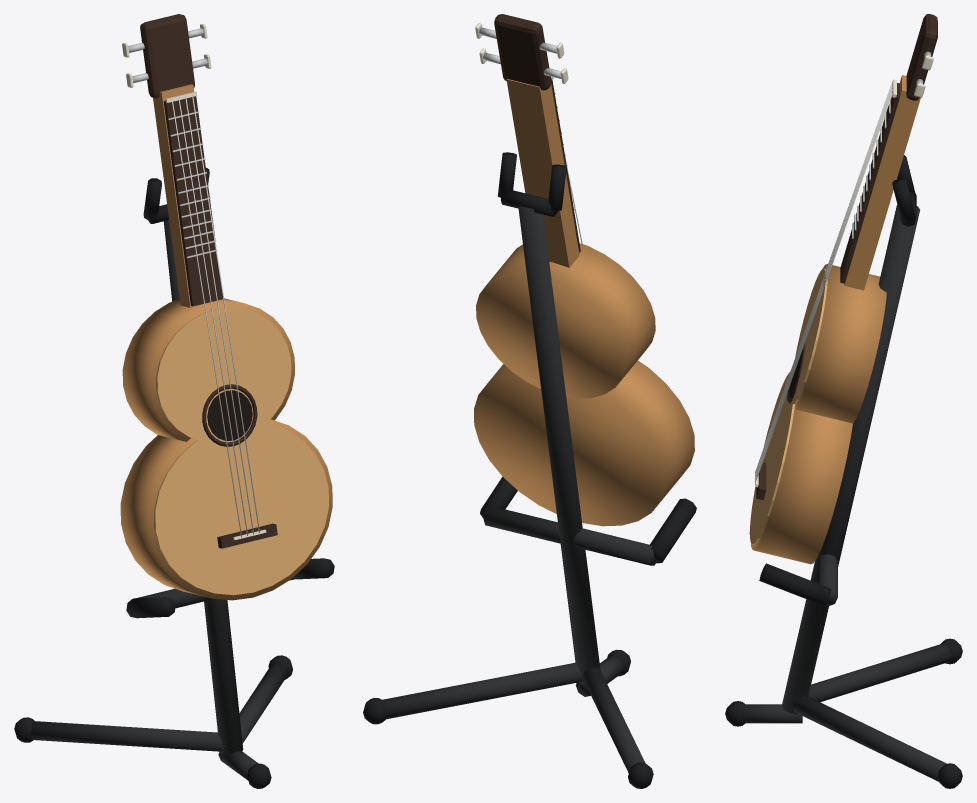
Rendered from ukulele.glb.
The picture shows the model from 3 angles, left to right: view 1: azimuth 30°, elevation 25°; view 2: azimuth 150°, elevation 25°; view 3: azimuth 270°, elevation 25°; orthographic projection. The views are drawn at different scales.
Visible parts, largest first — view 1: ukulele, stand; view 2: ukulele, stand; view 3: ukulele, stand.
Boxes of the visible parts, left/top/right/bottom form: ukulele: left=120, top=14, right=332, bottom=600; stand: left=14, top=167, right=334, bottom=788; ukulele: left=474, top=14, right=694, bottom=526; stand: left=363, top=152, right=696, bottom=788; ukulele: left=749, top=14, right=937, bottom=564; stand: left=725, top=155, right=962, bottom=788.
Size of the model in its own units: 0.348 by 0.8415 by 0.258.
